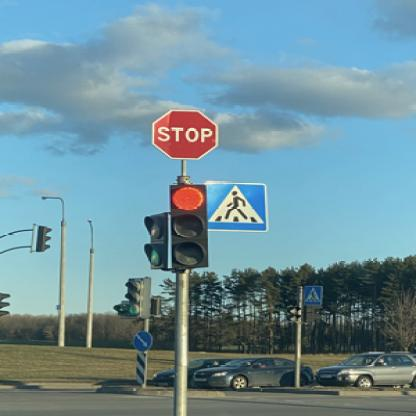Red Light: (170, 182, 211, 271)
Stop: (152, 109, 220, 160)
